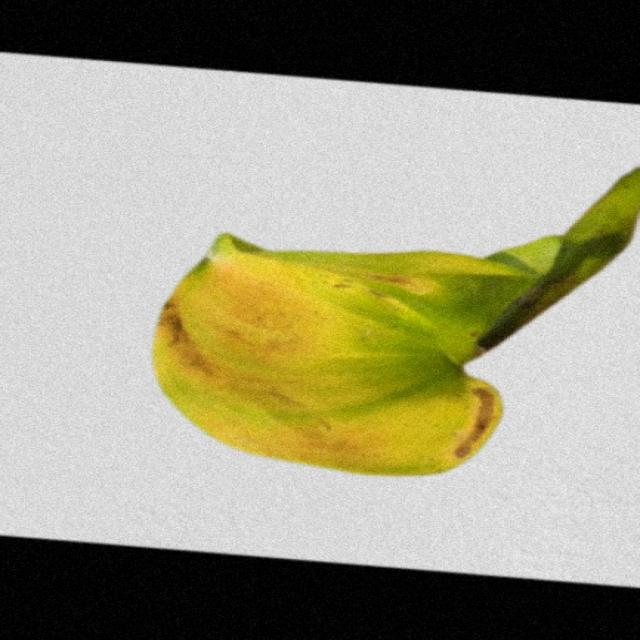daun berpenyakit kuning: (155, 171, 640, 475)
